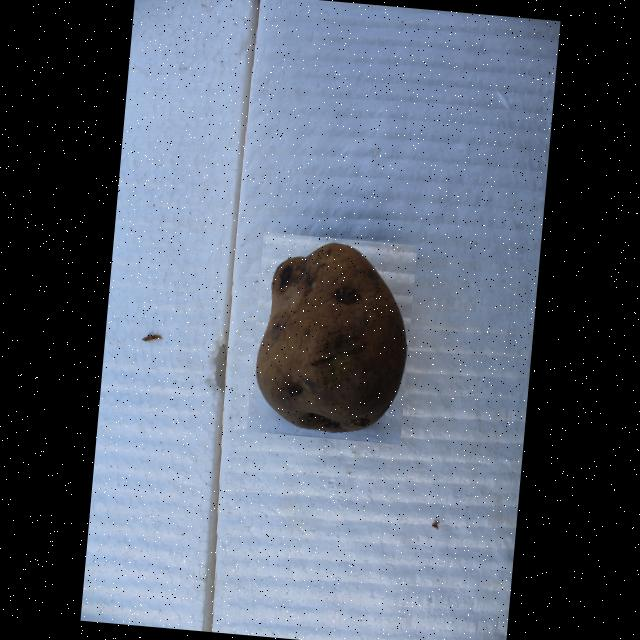Diseased-fungal potato: (246, 231, 417, 444)
